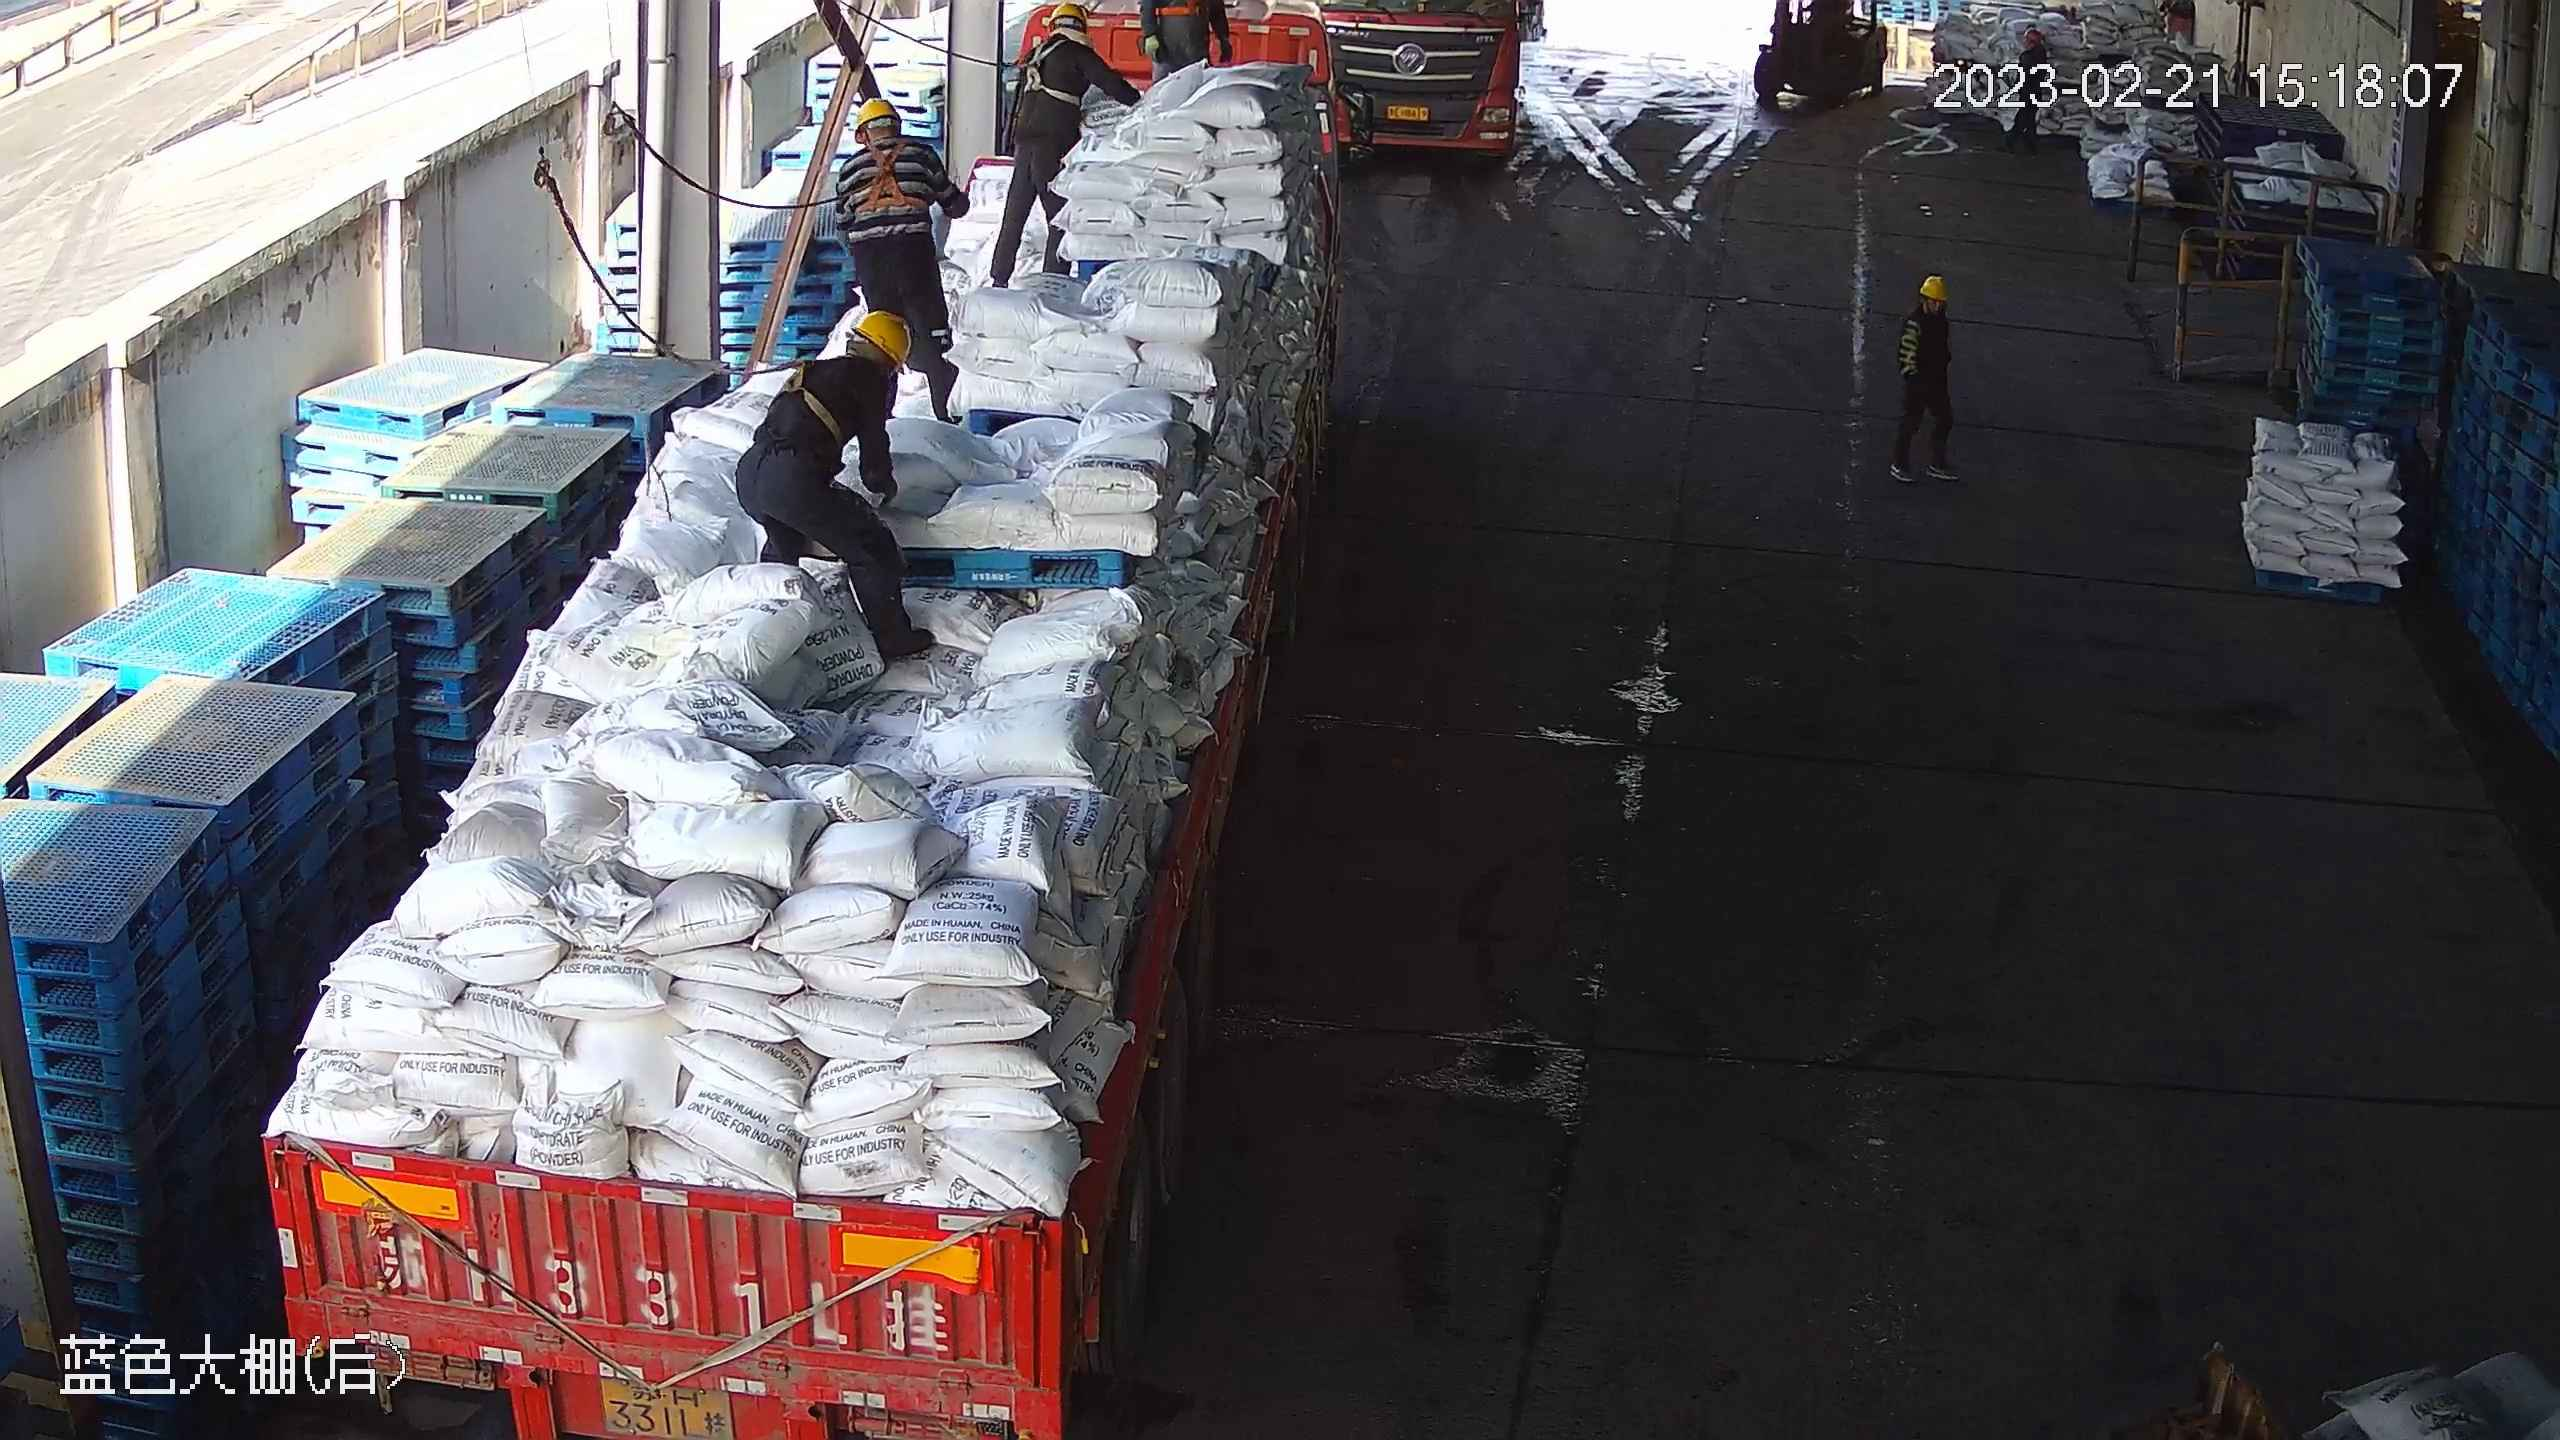belt: (776, 356, 839, 438), (858, 140, 924, 211), (1023, 40, 1078, 105)
head: (779, 309, 909, 425), (836, 95, 933, 189), (1017, 2, 1106, 97), (1892, 272, 1953, 351)
helmet: (850, 310, 910, 372), (855, 97, 904, 146), (1048, 3, 1086, 35), (1921, 277, 1946, 298)
people: (735, 310, 956, 657), (989, 3, 1143, 289), (835, 96, 971, 421), (1890, 270, 1961, 487)
truck: (257, 1, 1376, 1437), (1318, 1, 1539, 166)
